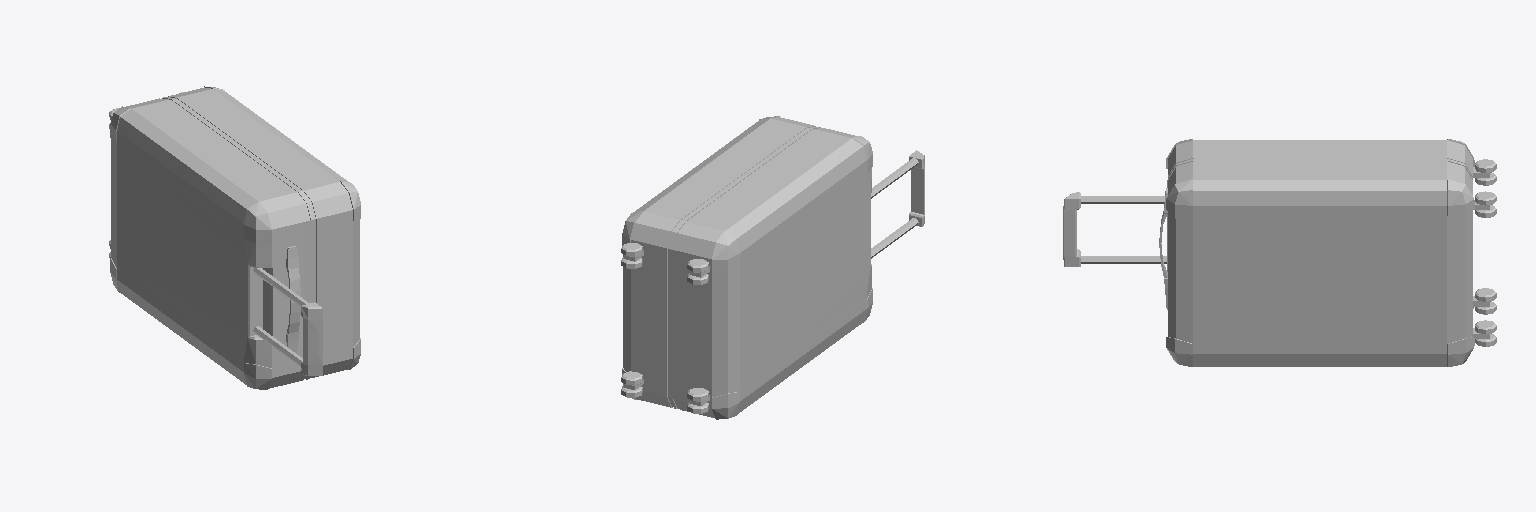
File: Suitcase1H.obj
3 renders of one model, left to right at view 1: azimuth 30°, elevation 25°; view 2: azimuth 150°, elevation 25°; view 3: azimuth 270°, elevation 25°, orthographic.
Visible parts, largest first — view 1: Suitcase1H; view 2: Suitcase1H; view 3: Suitcase1H.
Part boxes in pixels (bbox=[...]): Suitcase1H: bbox=[109, 86, 360, 389]; Suitcase1H: bbox=[621, 116, 924, 419]; Suitcase1H: bbox=[1063, 139, 1496, 366].
Size of the model in its own units: 0.2941 by 0.4873 by 0.9891.